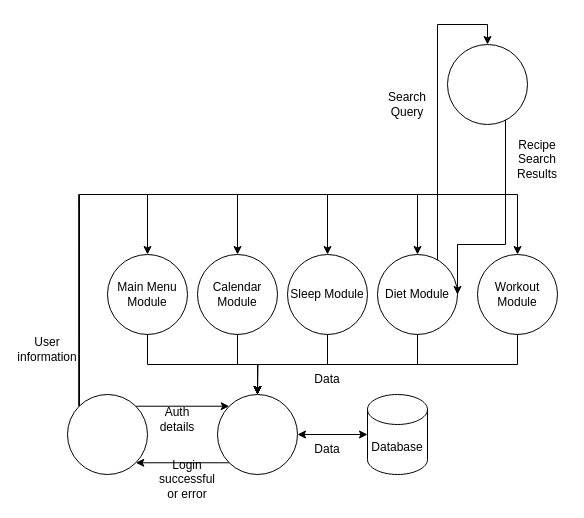
This 584x518 diagram has some shape labels left out. Each missing label, with the centre of its shape:
"Authentication Module" belongs at pixel 107 434.
"Database Module" belongs at pixel 257 434.
"Meal Recipe API" belongs at pixel 487 84.
